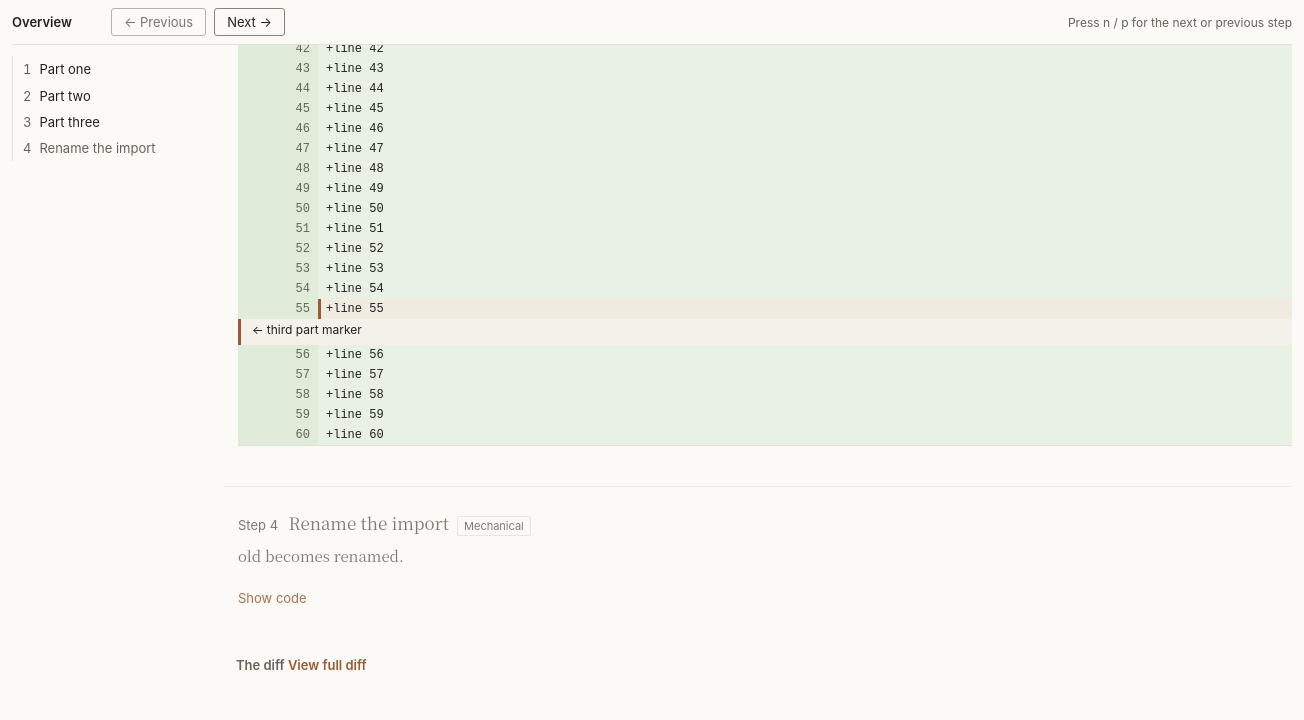
Test: WalkthroughView: step snippets (DIG-96) › the mechanical step is collapsed by default; a disclosure reveals its snippet
The image size is (1304, 720).
(page scrolled)
Expected: the heading "Step 4 Rename the import Mechanical" is shown, [238,510,531,536]
What coordinates should you click on to do the following:
click the button with class "mechanical-toggle"
I would click on:
 (272, 598)
Its box is [238,584,307,612].
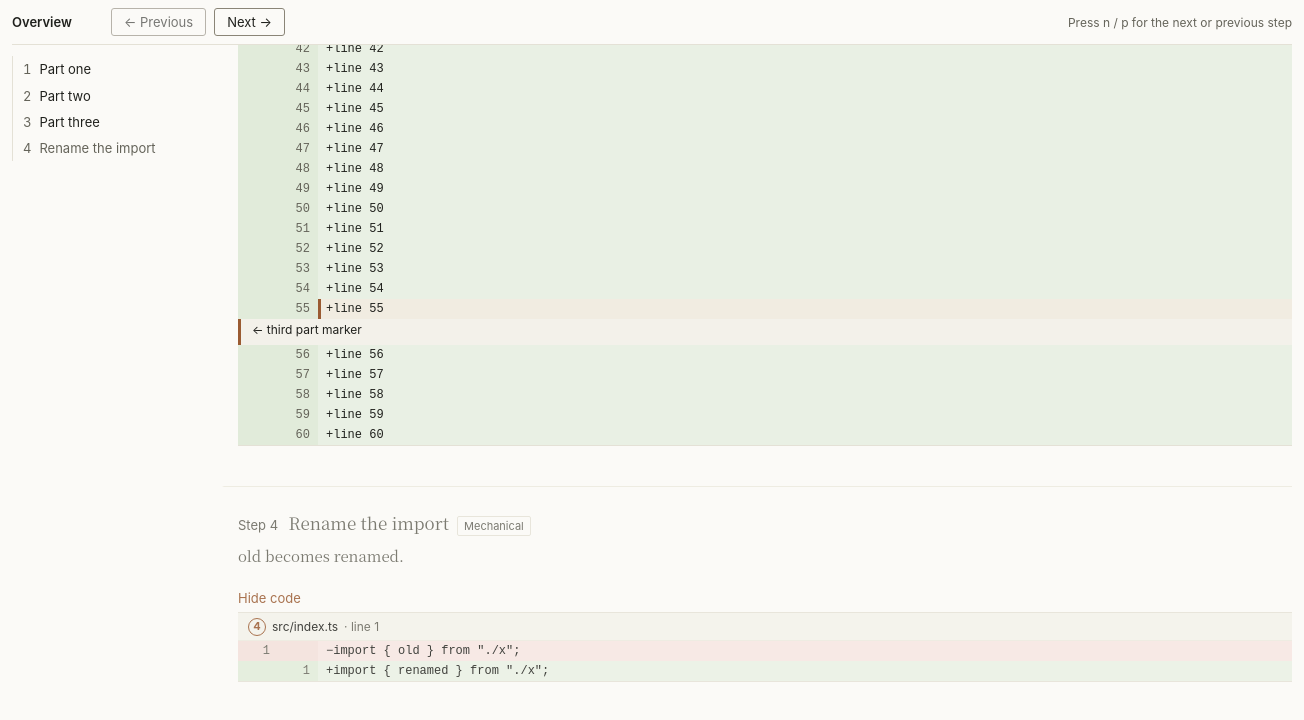
Expected: the element with class "range-snippet" that starts with "src/index.ts" is shown, [238,612,1292,682]
Expected: the button with class "mechanical-toggle" is expanded, [238,584,301,612]
